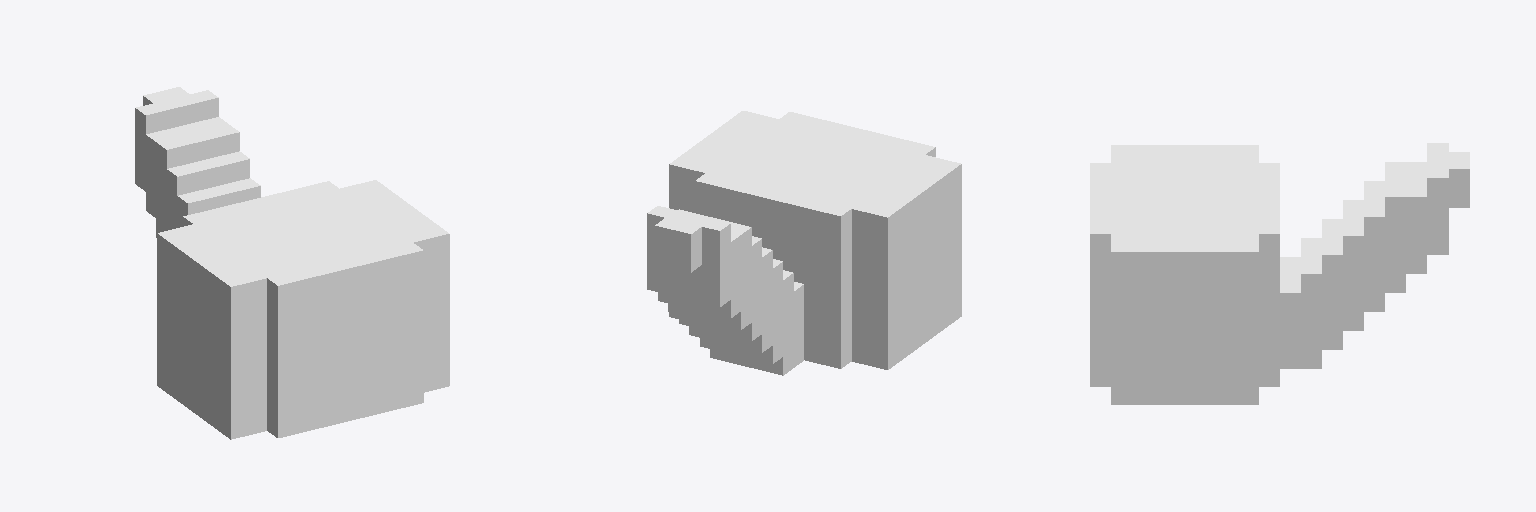
The model's file is robbie-body.obj.
3 renders of one model, left to right at view 1: azimuth 30°, elevation 25°; view 2: azimuth 150°, elevation 25°; view 3: azimuth 270°, elevation 25°, orthographic.
Visible parts, largest first — view 1: robbie-body; view 2: robbie-body; view 3: robbie-body.
Part boxes in pixels (x1,y1,x2,y2): robbie-body: (135,87,449,439); robbie-body: (647,111,961,375); robbie-body: (1090,143,1469,404).
Bounding box in the file's own units: 12 × 10 × 18.